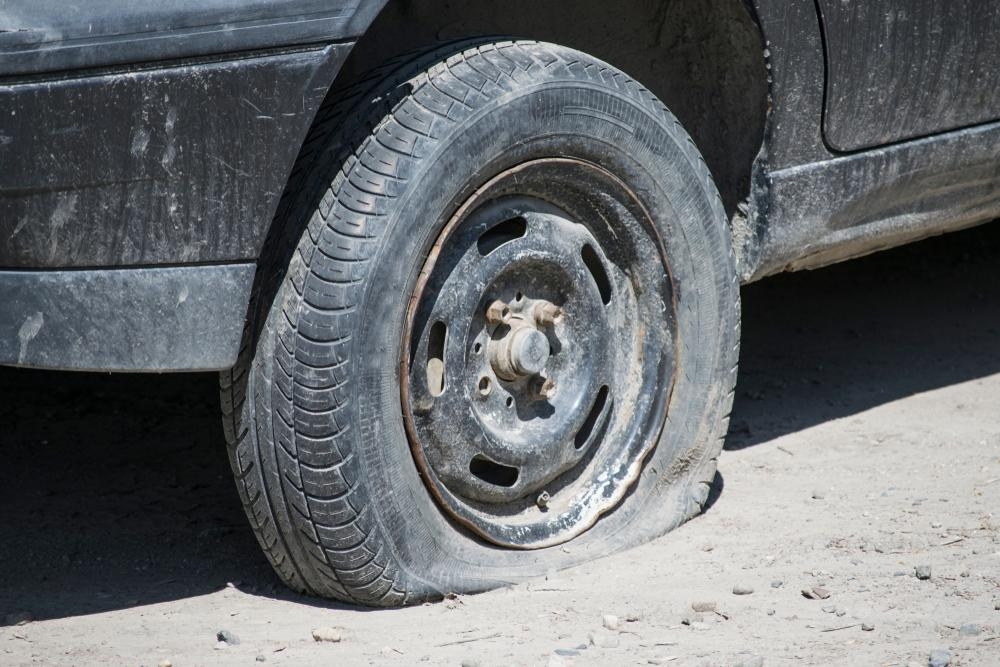tire flat: (220, 37, 741, 606)
